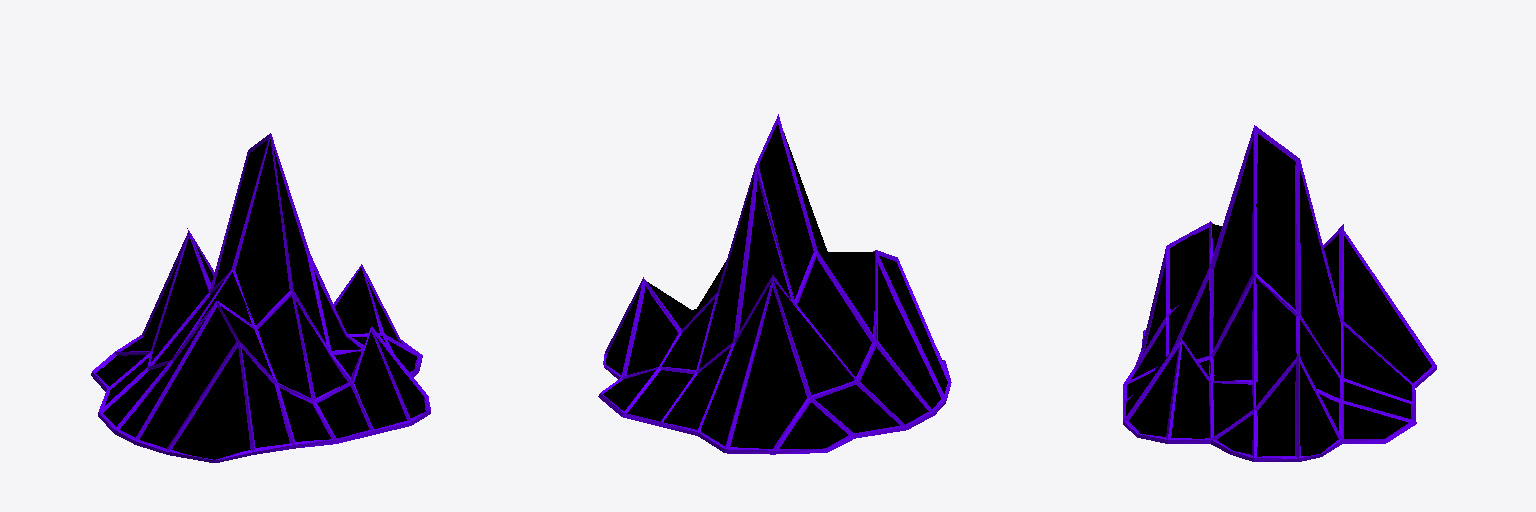
The model's file is mountains.obj.
The picture shows the model from 3 angles: view 1: azimuth 30°, elevation 25°; view 2: azimuth 150°, elevation 25°; view 3: azimuth 270°, elevation 25°; orthographic projection.
Visible parts, largest first — view 1: Plane, Plane.001_Plane.003; view 2: Plane, Plane.001_Plane.003; view 3: Plane, Plane.001_Plane.003.
Part boxes in pixels (x1,y1,x2,y2): Plane: (96,139,425,459); Plane.001_Plane.003: (91,133,430,462); Plane: (603,123,947,448); Plane.001_Plane.003: (598,114,951,454); Plane: (1126,134,1431,456); Plane.001_Plane.003: (1123,125,1436,461).
Size of the model in its own units: 20.54 by 16.83 by 18.13.